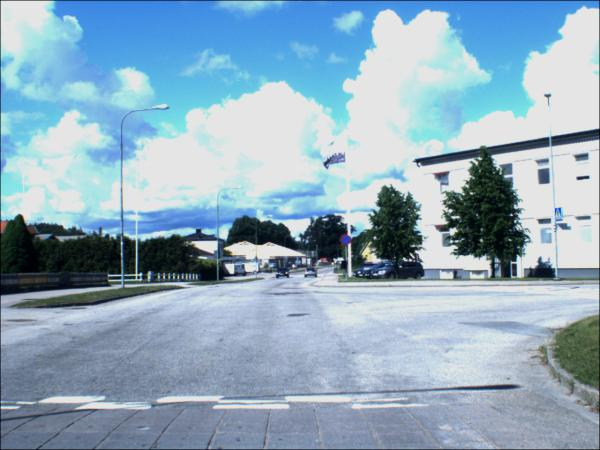NO_PARKING: (342, 235, 353, 247)
PEDESTRIAN_CROSSING: (557, 209, 565, 222)
